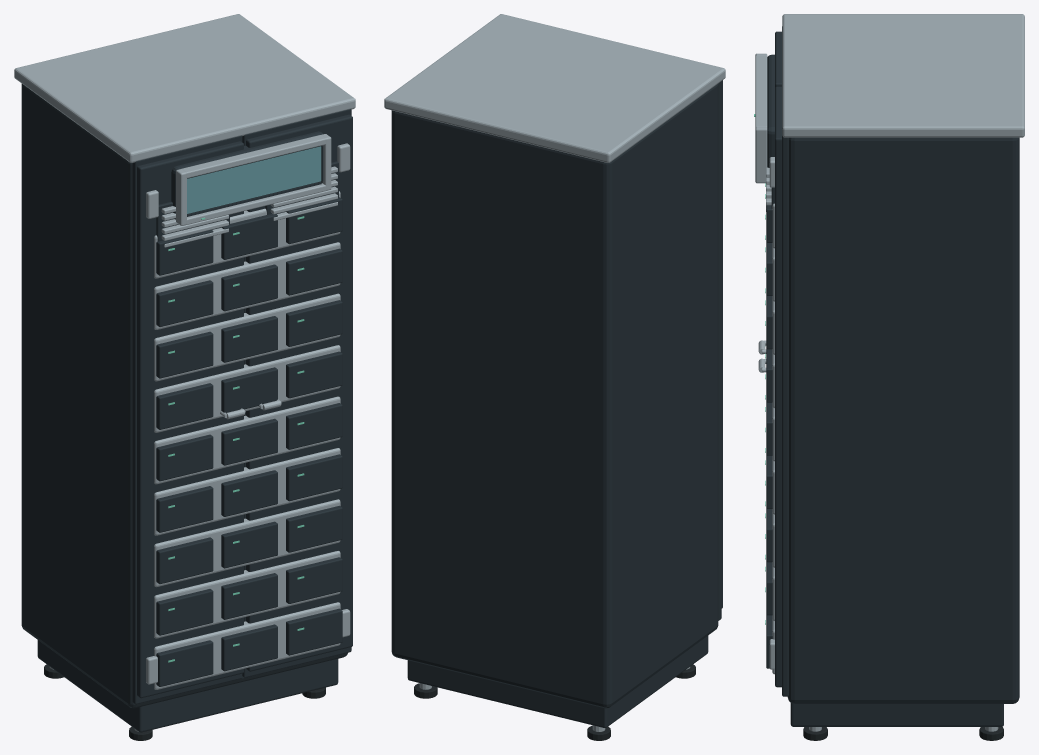
Rendered from RD_DataRecorderRack.fbx.
3 views of the same model, side by side, from view 1: azimuth 30°, elevation 25°; view 2: azimuth 150°, elevation 25°; view 3: azimuth 270°, elevation 25° (orthographic). The views are drawn at different scales.
Parts seen in each view (by area): view 1: RD_DataRecorderRack; view 2: RD_DataRecorderRack; view 3: RD_DataRecorderRack.
Part boxes in pixels (box(x1,y1,x2,y2)): RD_DataRecorderRack: box(14, 14, 355, 740); RD_DataRecorderRack: box(384, 14, 725, 740); RD_DataRecorderRack: box(754, 14, 1024, 740).
Bounding box in the file's own units: 87.5 × 222 × 87.65.
